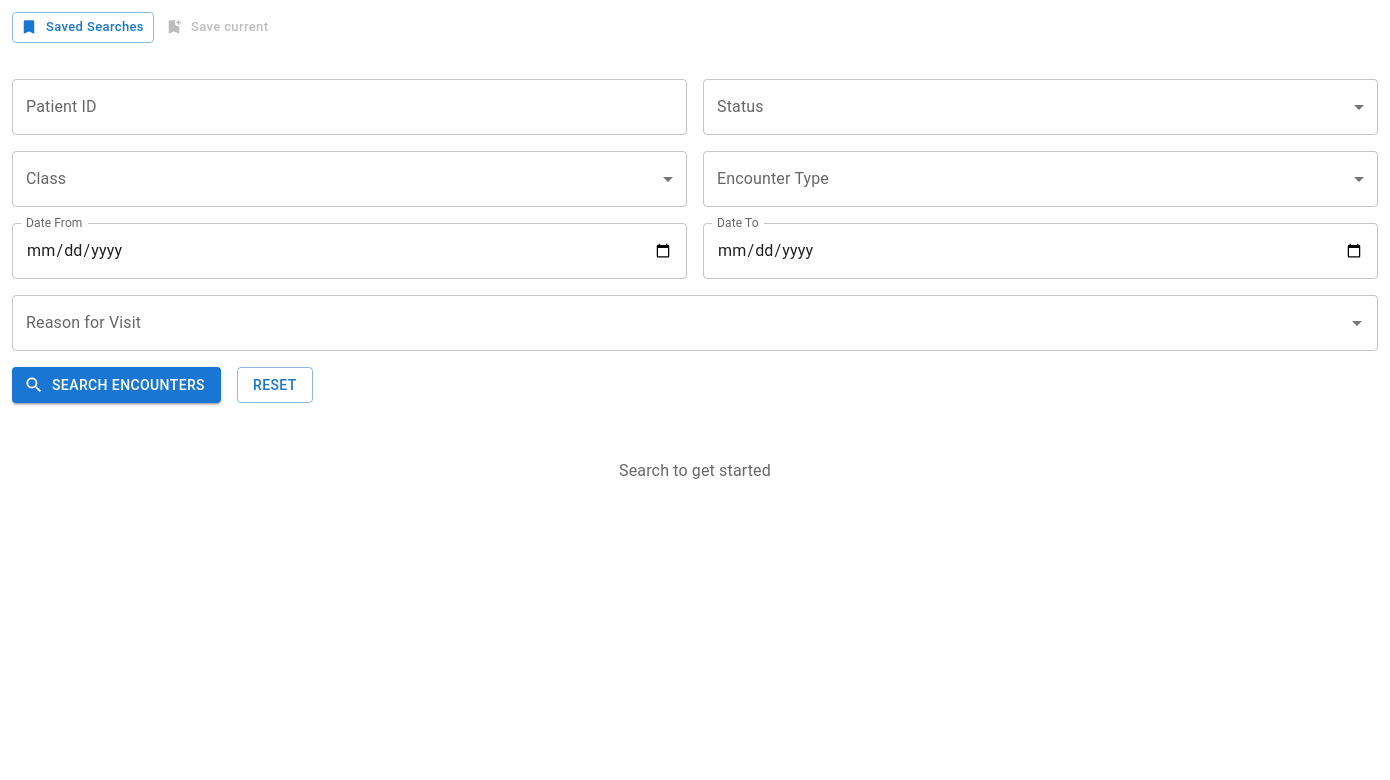
Test: EncounterSearch › hides 'Search to get started' after submitting
The image size is (1390, 780).
Click the button "Search Encounters". click: (116, 385)
box: [12, 367, 221, 403]
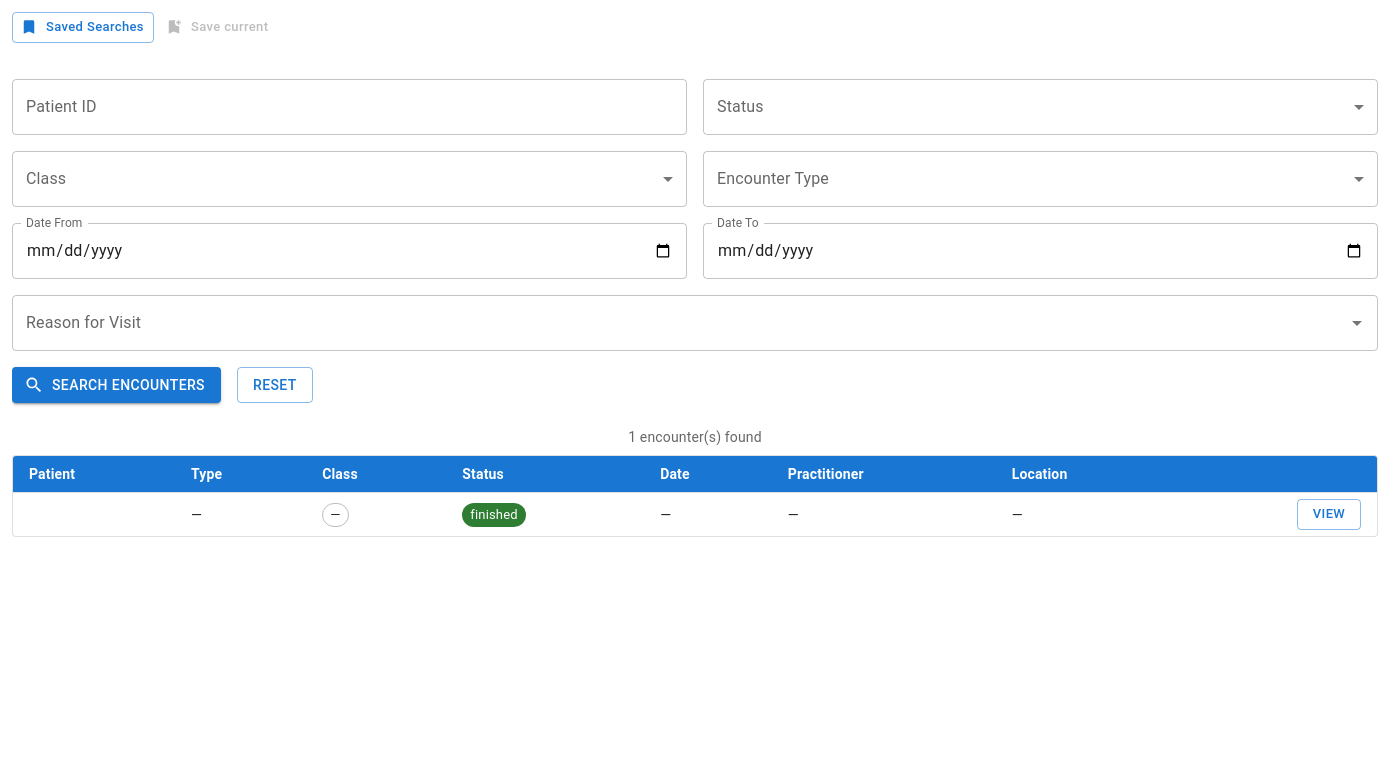
Now the text "Search to get started" is gone
